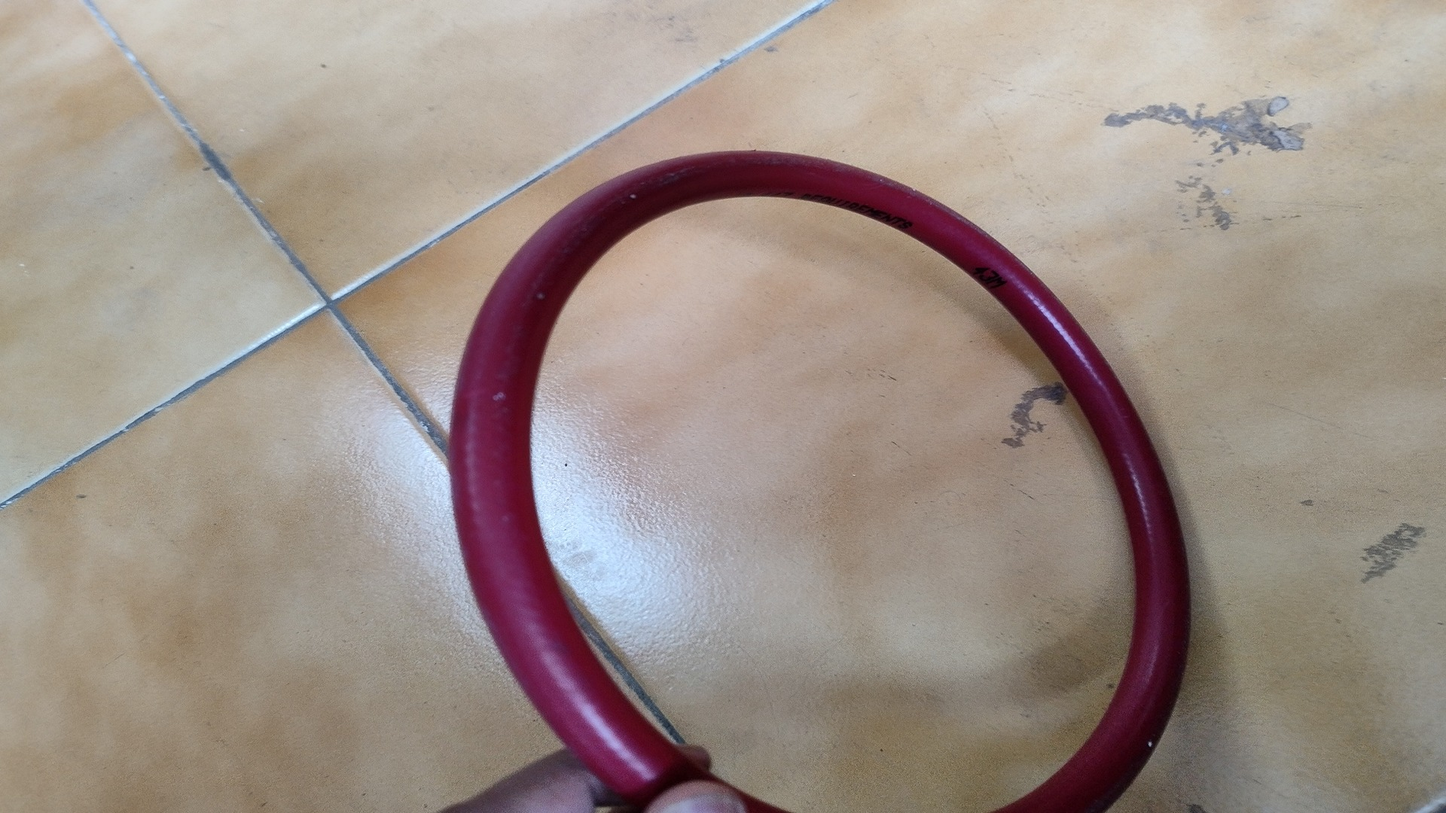Red ring: (455, 148, 1188, 813)
